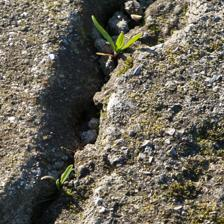Crack: (11, 9, 137, 212)
